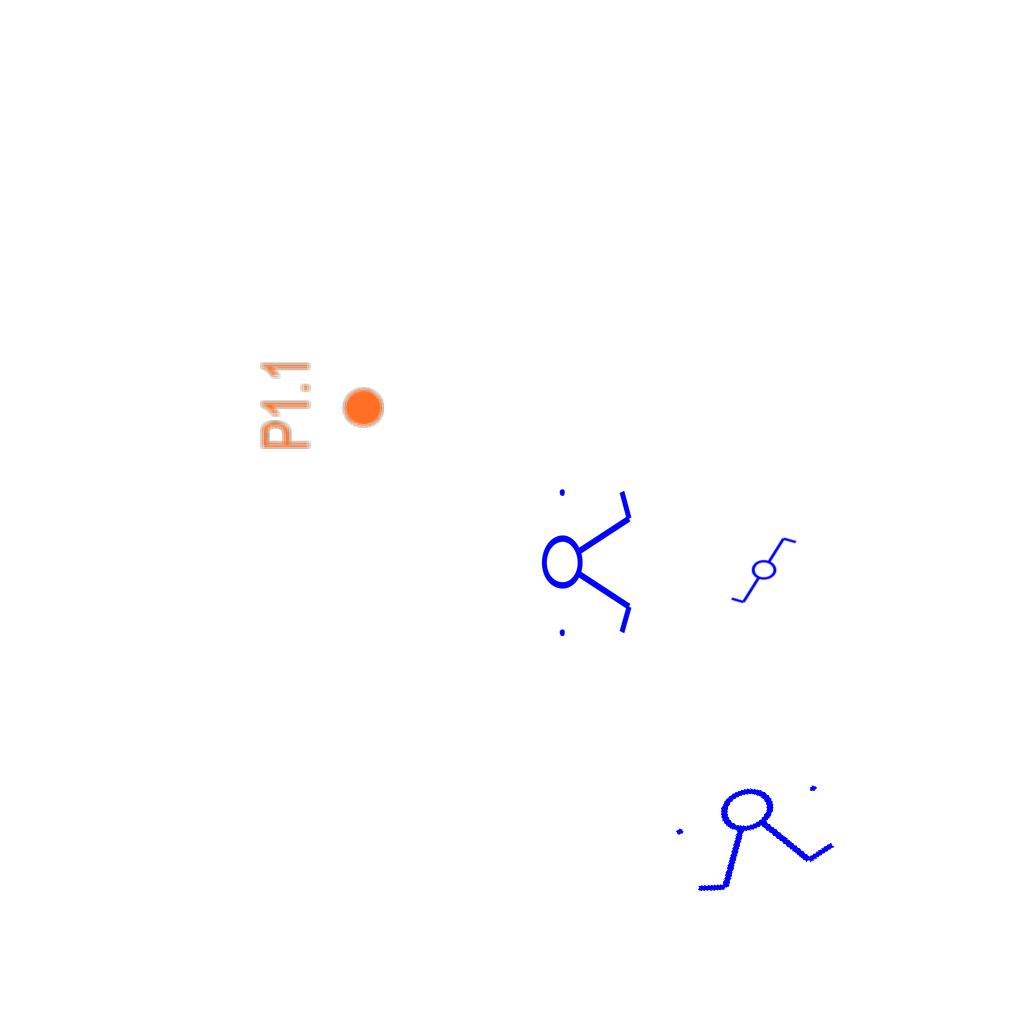Downlight_LED_Einbauleuchten_Flur: (258, 358, 386, 451)
Serienschalter: (661, 762, 851, 906), (540, 477, 636, 645)
Wechselschalter: (729, 535, 807, 607)
